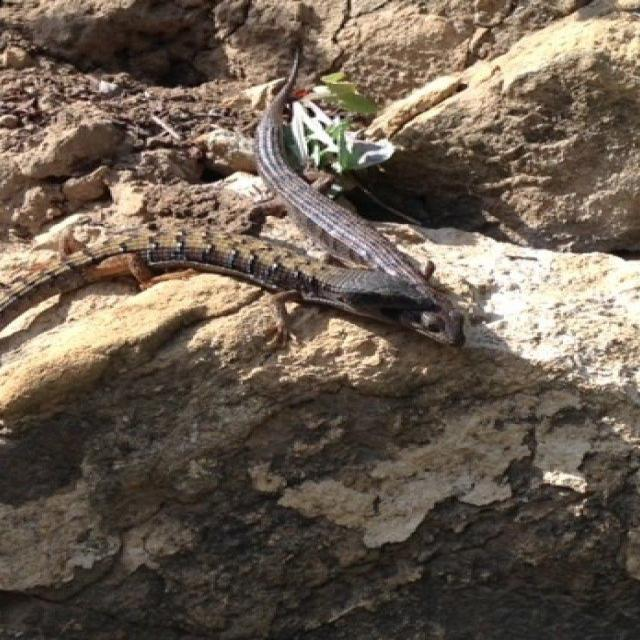Lizard: (263, 37, 447, 309), (0, 220, 423, 322)
